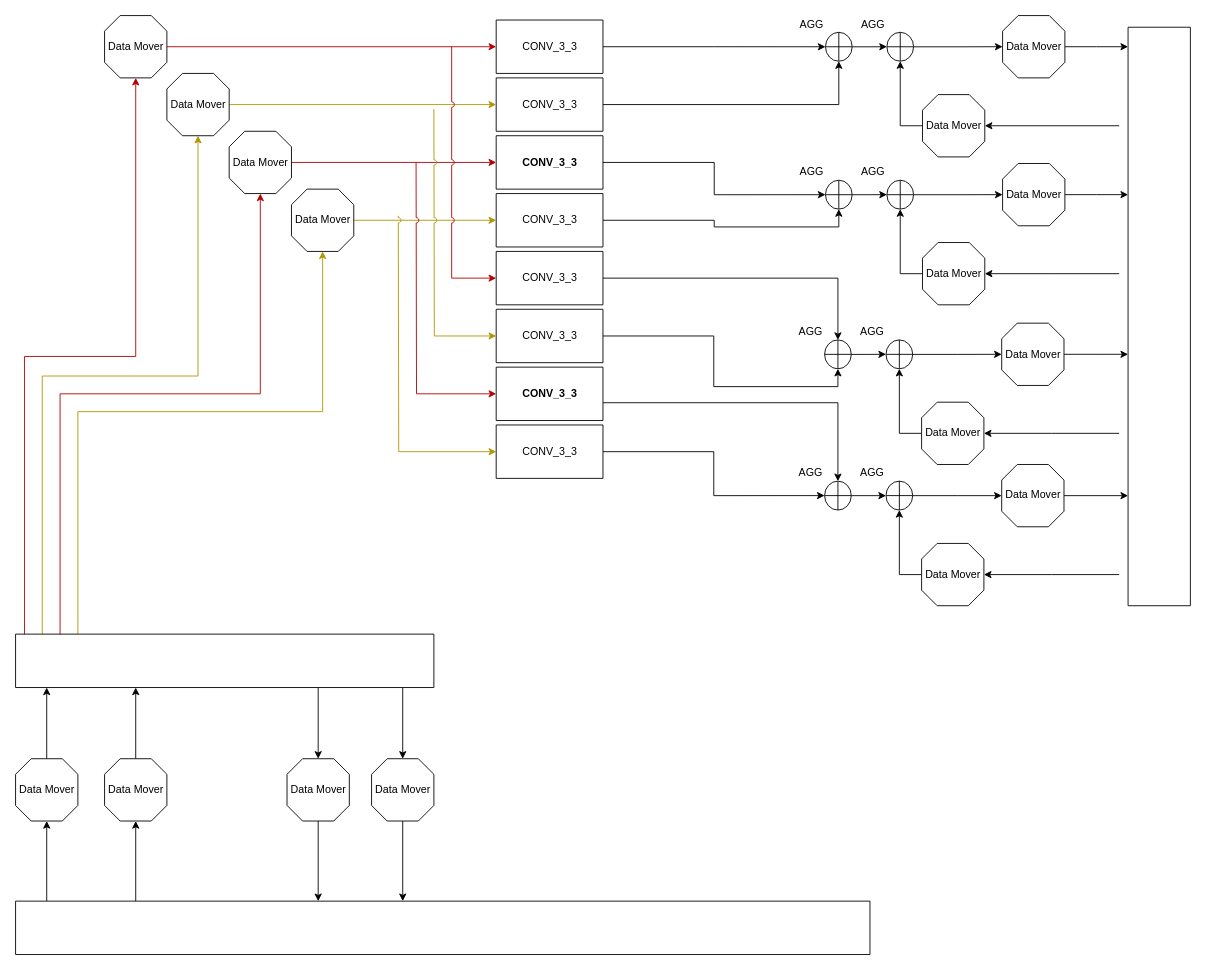
Some shapes in this 1206 by 970 pixel diagram are drawn without their labels. Here are the shapes that lost their labels. From the top down, the box of each, then its label:
(1127, 26, 1190, 606): The Same Buffer
(15, 633, 434, 688): Buffer
(15, 900, 870, 955): DRAM
